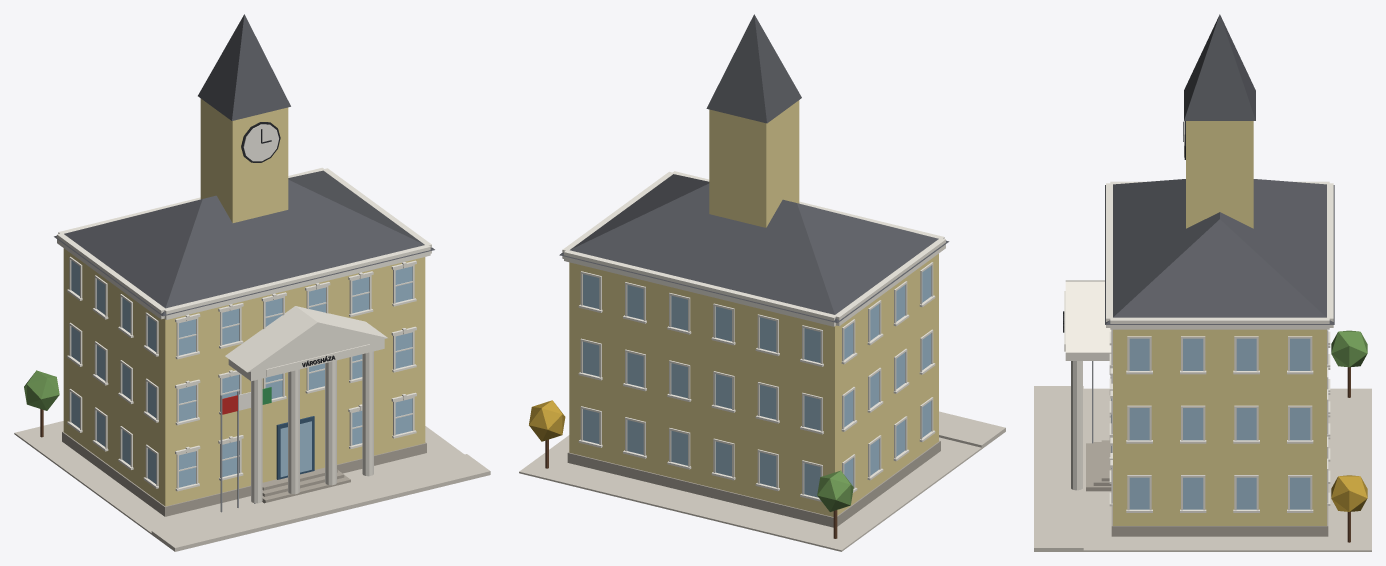
File: Kamu_belediye_1_Hafif.fbx
3 views of the same model, side by side, from view 1: azimuth 30°, elevation 25°; view 2: azimuth 150°, elevation 25°; view 3: azimuth 270°, elevation 25° (orthographic). The views are drawn at different scales.
Parts seen in each view (by area): view 1: Kamu_belediye_1_Hafif; view 2: Kamu_belediye_1_Hafif; view 3: Kamu_belediye_1_Hafif.
Boxes of the visible parts, bbox=[...] form: Kamu_belediye_1_Hafif: bbox=[14, 14, 490, 551]; Kamu_belediye_1_Hafif: bbox=[519, 14, 1005, 551]; Kamu_belediye_1_Hafif: bbox=[1034, 14, 1371, 551].
Size of the model in its own units: 17 by 22.39 by 15.
